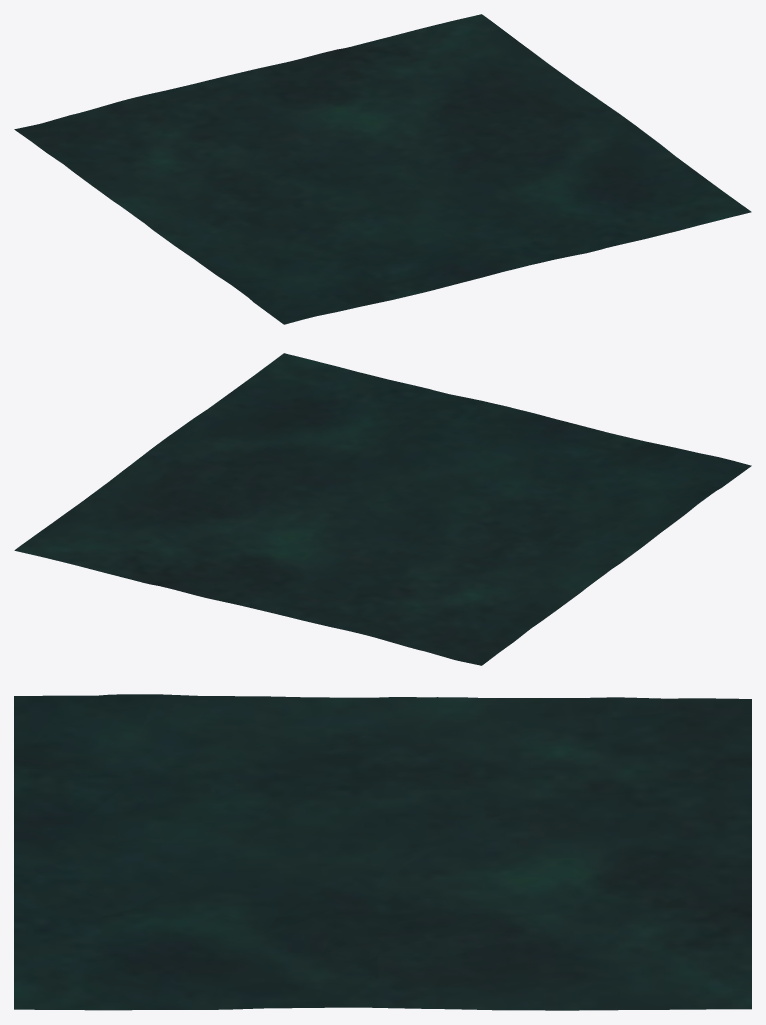
3 views of the same model, one above another, from view 1: azimuth 30°, elevation 25°; view 2: azimuth 150°, elevation 25°; view 3: azimuth 270°, elevation 25° (orthographic). The views are drawn at different scales.
Size of the model in its own units: 52.22 by 0.5394 by 52.22.
Materials: 2 (2 with a texture image).
